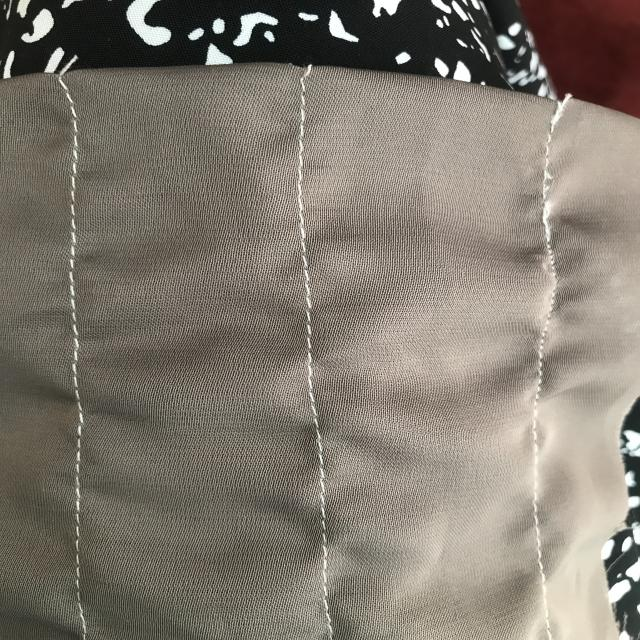good: (58, 427, 98, 563), (51, 97, 93, 192), (58, 210, 86, 328), (296, 288, 318, 387)
